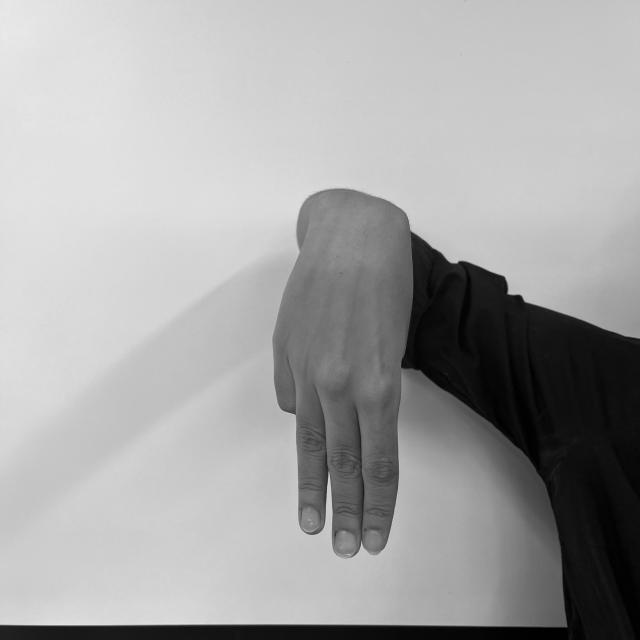Letra M: (269, 181, 417, 564)
